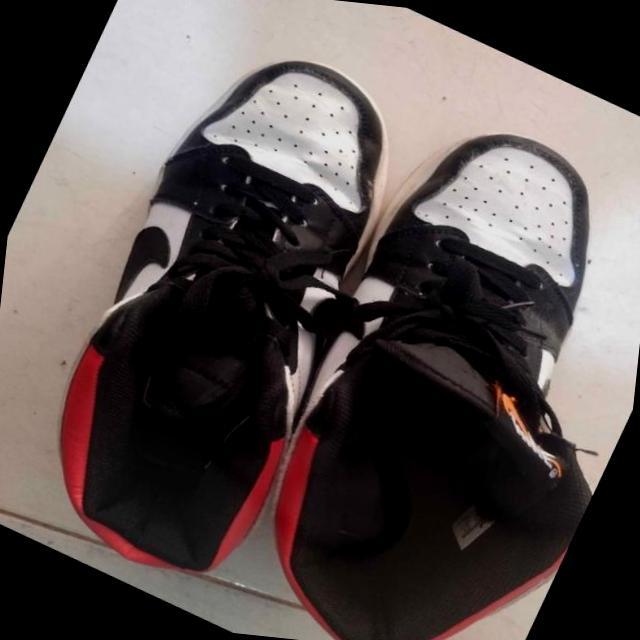nike_fake_jordan: (0, 0, 449, 622), (191, 69, 640, 640)
